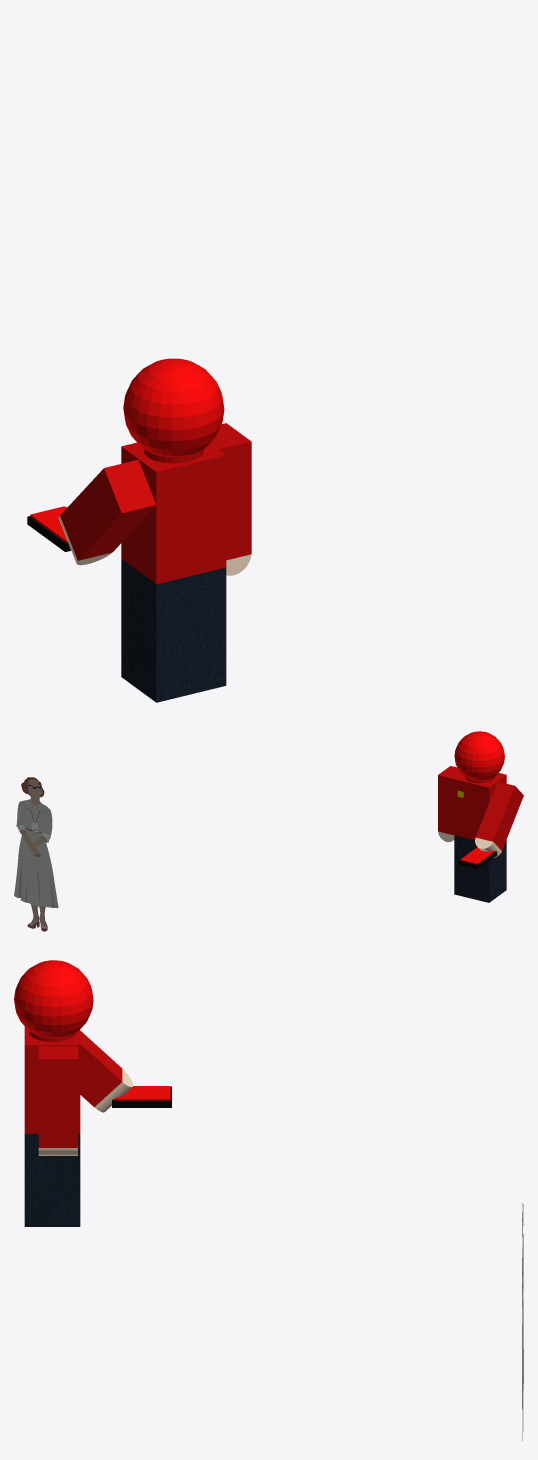
File: model 2 (red).3ds (1).glb
3 renders of one model, top to bottom at view 1: azimuth 30°, elevation 25°; view 2: azimuth 150°, elevation 25°; view 3: azimuth 270°, elevation 25°, orthographic. The views are drawn at different scales.
Parts seen in each view (by area): view 1: Model, leg2, Group2, leg1, Group1, Group3; view 2: Katherine_, Model, Group2, leg2, Group1, leg1, Group3, hadn_2_2; view 3: Model, leg1, Group1, Group2, Group3.
Part boxes in pixels (x1,y1,x2,y2): Model: (121, 358, 226, 584); leg2: (121, 559, 191, 702); Group2: (60, 459, 155, 560); leg1: (191, 567, 226, 694); Group1: (210, 423, 251, 560); Group3: (27, 506, 70, 551); Katherine_: (14, 777, 58, 931); Model: (454, 731, 506, 840); Group2: (475, 781, 523, 850); leg2: (471, 839, 506, 902); Group1: (438, 766, 461, 835); leg1: (454, 835, 471, 898); Group3: (458, 847, 496, 868); hadn_2_2: (475, 837, 501, 858); Model: (14, 960, 93, 1133); leg1: (24, 1133, 80, 1226); Group1: (38, 1046, 78, 1147); Group2: (80, 1031, 122, 1106); Group3: (112, 1086, 171, 1107).
Size of the model in its own units: 1027 by 441 by 816.
30 materials, 2 textured.
